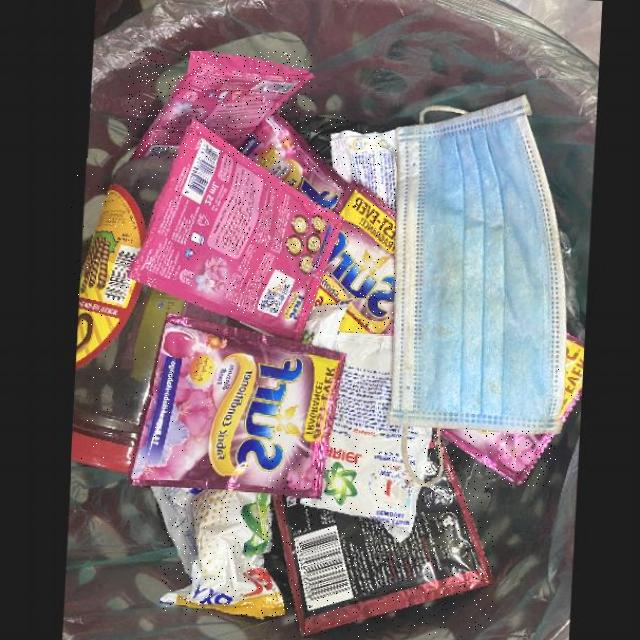plastic: (72, 158, 225, 480)
wrapper: (268, 435, 494, 637), (132, 127, 339, 341), (128, 314, 348, 500), (127, 51, 313, 161), (160, 492, 285, 618), (316, 179, 397, 335), (238, 115, 348, 212), (437, 428, 556, 486), (328, 130, 397, 212), (557, 336, 584, 435)
